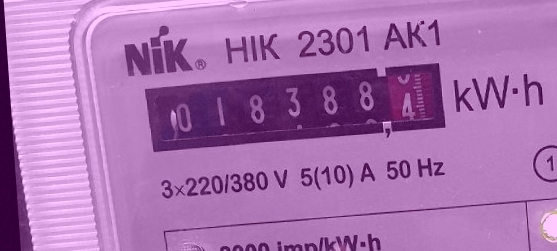0: (172, 98, 194, 135)
1: (209, 90, 230, 128)
3: (282, 83, 304, 119)
4: (396, 87, 418, 122)
8: (244, 89, 268, 126), (354, 76, 377, 114), (318, 82, 340, 118)
screen: (135, 52, 458, 163)
